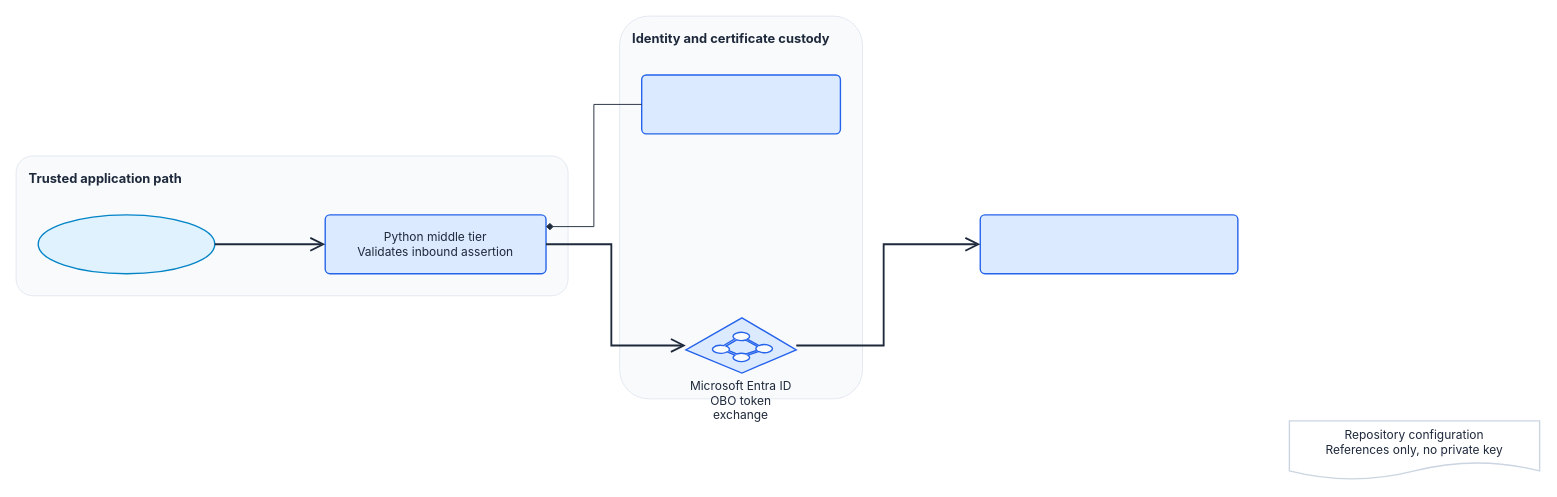
Some shapes in this 1557 by 497 pixel diagram are drawn without their labels. Each missing label, with the centre of its shape:
"Azure Key Vault Protected exportable PFX" belongs at point 741,104.
"Protected downstream API Delegated resource authorization" belongs at point 1108,244.
"Signed-in user Token for middle tier" belongs at point 126,244.
